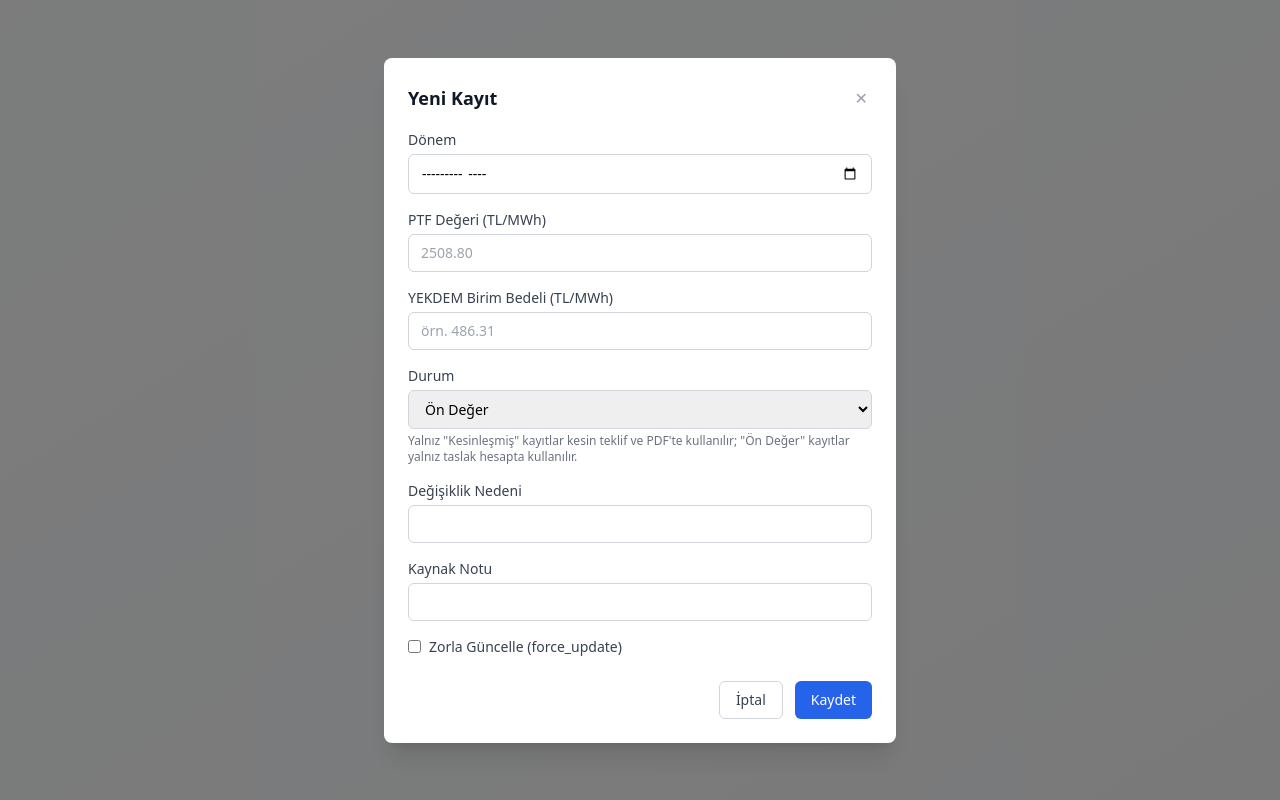
Test: UpsertFormModal — YEKDEM alanı › negatif YEKDEM kabul edilmez
Type "2026-07" into the field with id "upsert-period" at [640, 174], box top-left (408, 154), bottom-right (872, 194)
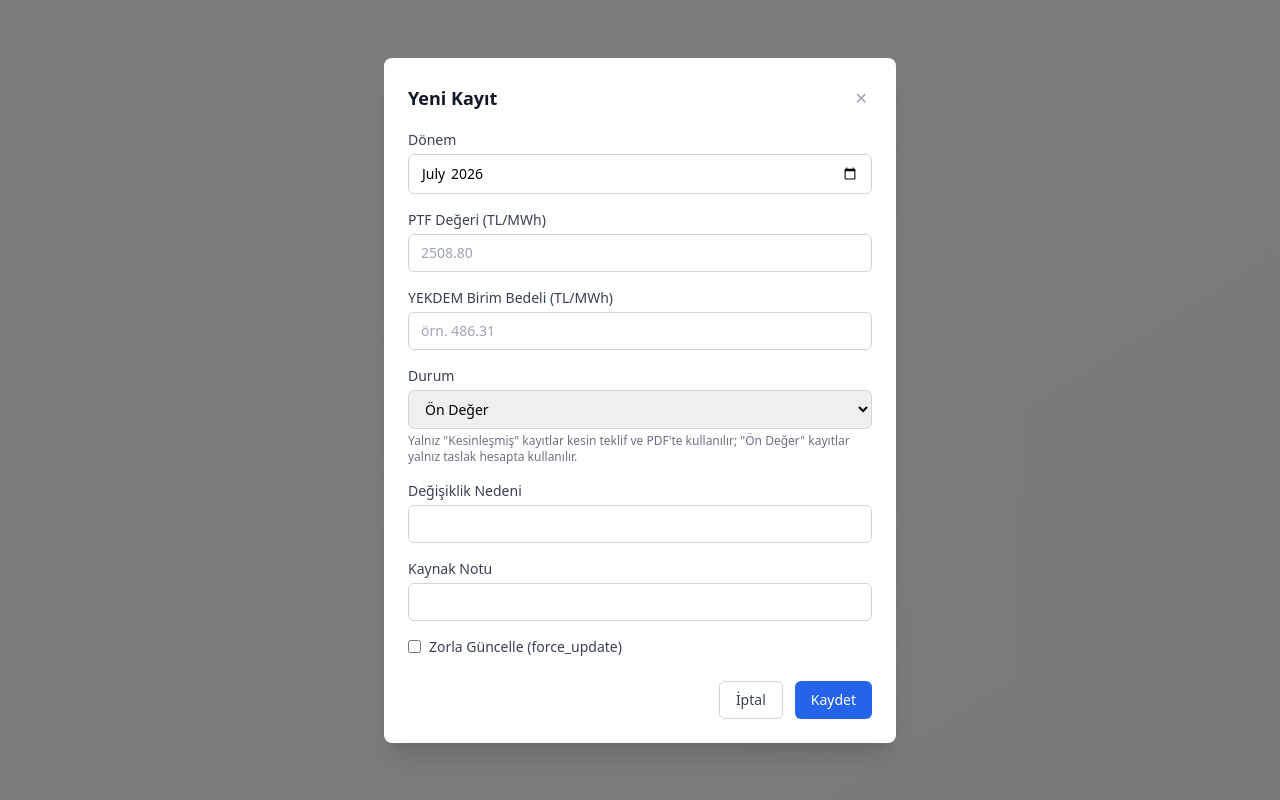
Type "2699.61" into the field with id "upsert-value" at [640, 252], box top-left (408, 234), bottom-right (872, 272)
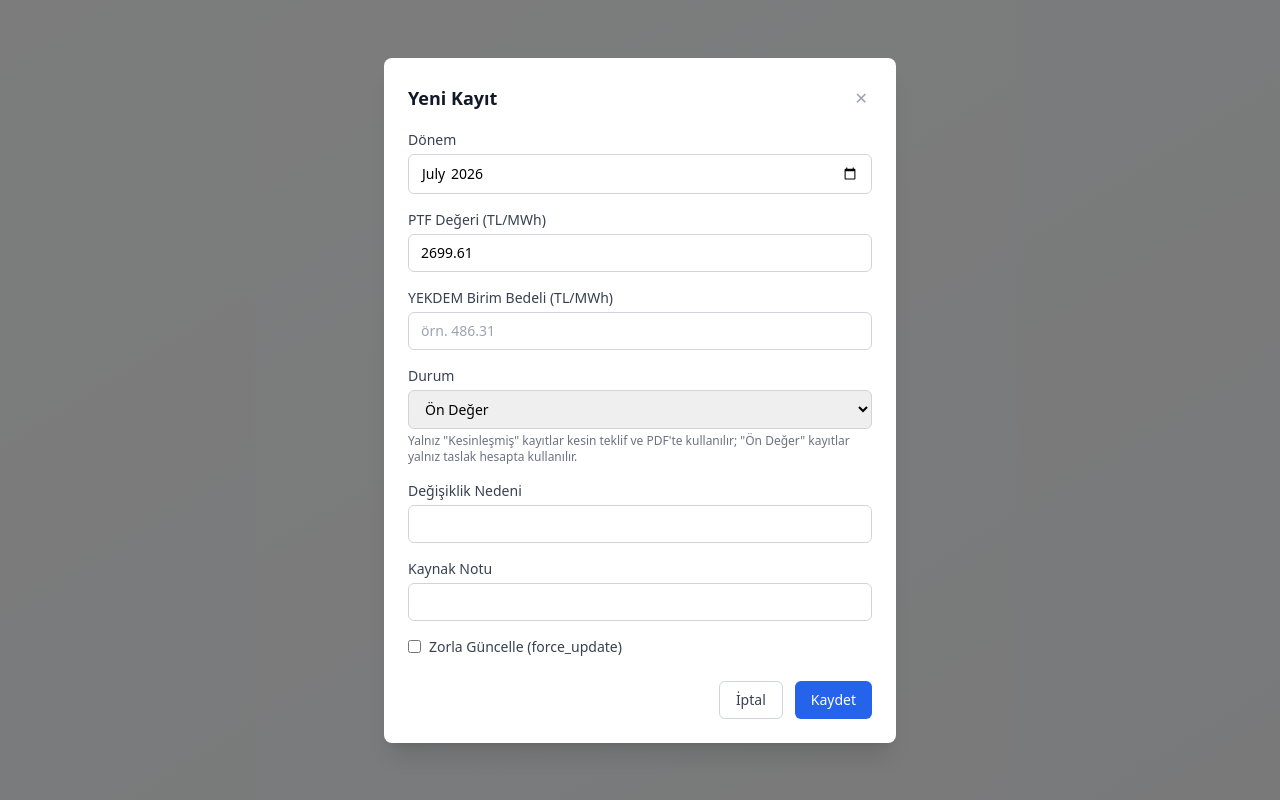
Type "-5" into the field with id "upsert-yekdem" at [640, 330], box top-left (408, 312), bottom-right (872, 350)
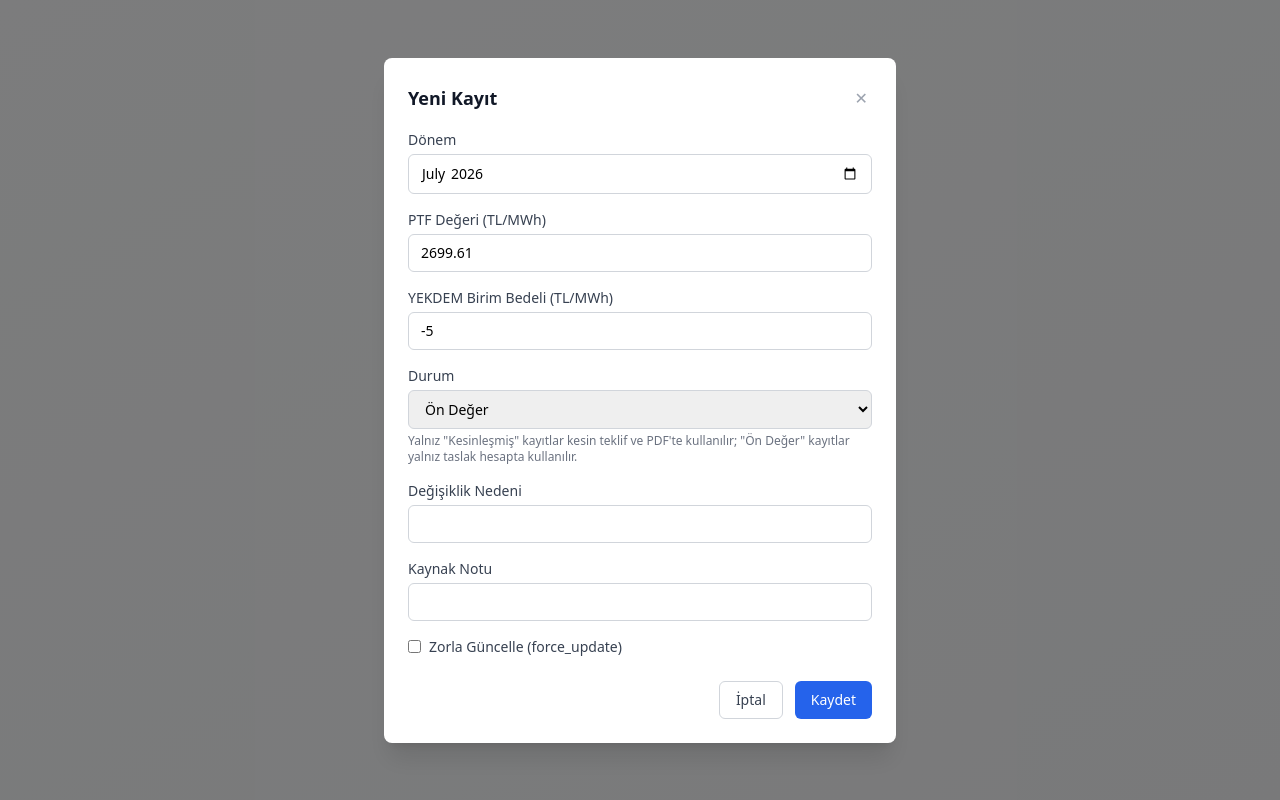
Click the button "Kaydet" at [833, 700], box top-left (795, 680), bottom-right (872, 718)
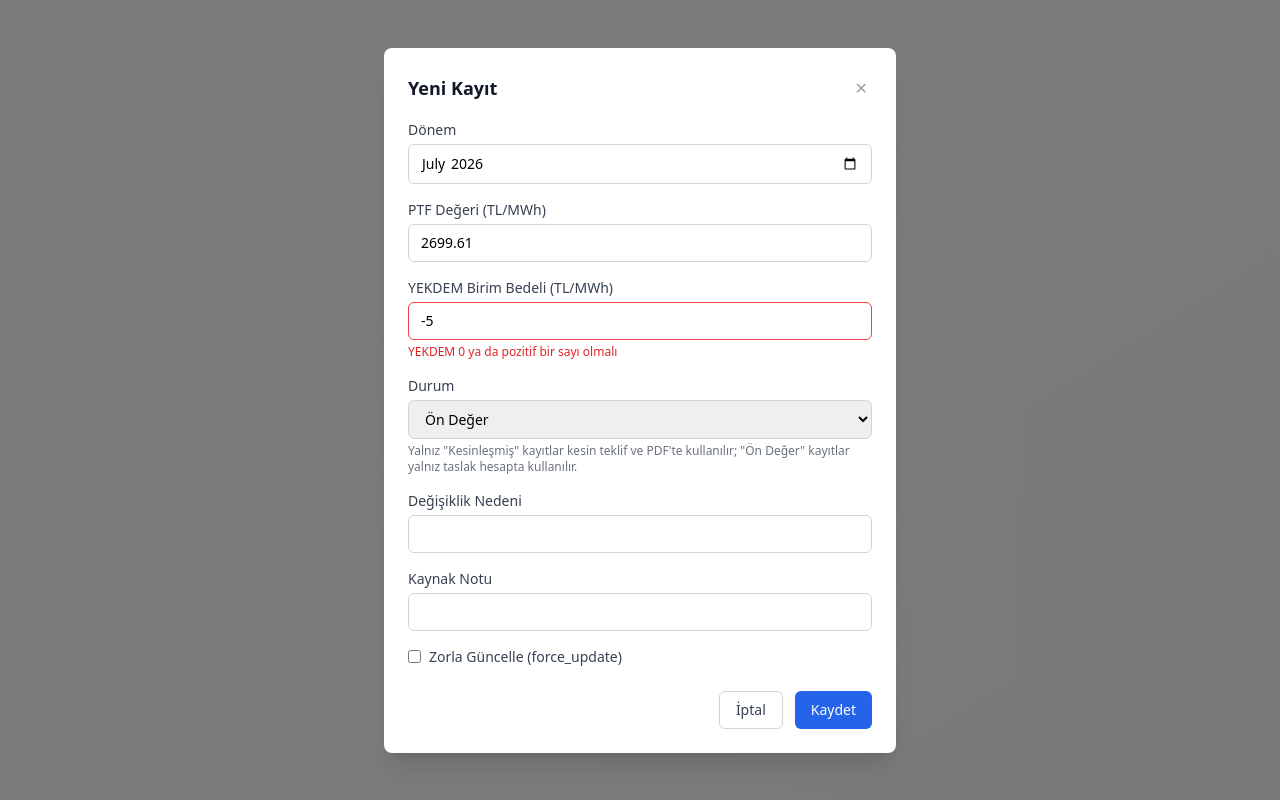
Now the text with test id "error-yekdem_value" shows "0 ya da pozitif", box top-left (408, 342), bottom-right (617, 360)
